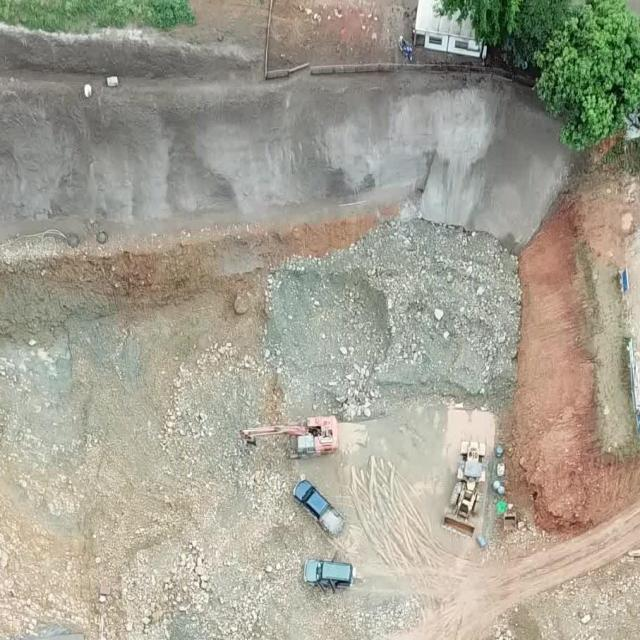excavator: (237, 409, 344, 464)
machinery: (433, 432, 494, 548)
